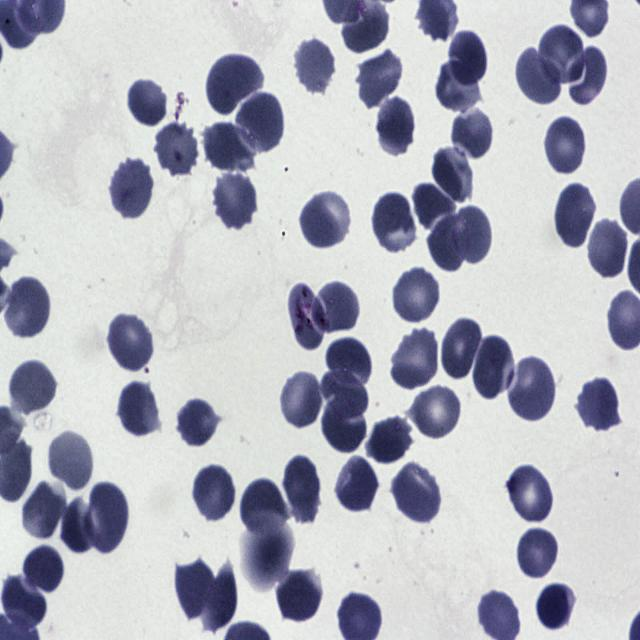red blood cell: (206, 51, 265, 117), (508, 353, 558, 424), (2, 277, 54, 342), (236, 90, 286, 155), (389, 328, 438, 394), (86, 481, 131, 552), (108, 156, 156, 222), (392, 264, 442, 327), (471, 332, 515, 403), (371, 191, 419, 256), (354, 48, 405, 109), (282, 454, 324, 528), (390, 463, 441, 523), (440, 314, 483, 384), (211, 170, 259, 232), (373, 94, 418, 158), (538, 26, 586, 86), (298, 195, 349, 251), (116, 378, 162, 440), (292, 36, 338, 98), (274, 568, 324, 625), (431, 144, 476, 206), (516, 48, 564, 106), (174, 556, 216, 622), (240, 477, 288, 534), (555, 183, 597, 248), (505, 466, 553, 522), (288, 283, 328, 350), (22, 479, 67, 538), (411, 386, 462, 438), (576, 377, 623, 433), (108, 315, 154, 372), (10, 360, 56, 416), (48, 431, 93, 488), (320, 370, 371, 420), (447, 28, 489, 88), (566, 43, 608, 103), (202, 560, 238, 630), (279, 371, 322, 429), (191, 466, 236, 521), (203, 122, 251, 172), (342, 1, 389, 52), (155, 122, 199, 176), (1, 575, 45, 629), (587, 219, 627, 278), (125, 76, 169, 129), (322, 397, 365, 451), (545, 118, 586, 174), (452, 206, 492, 263), (336, 456, 378, 510), (60, 497, 98, 555), (428, 216, 467, 272), (433, 65, 479, 112), (452, 106, 492, 160), (516, 527, 558, 578), (535, 582, 577, 633), (326, 337, 371, 384), (411, 183, 457, 228), (23, 544, 64, 594), (314, 285, 359, 330), (368, 416, 412, 461), (176, 401, 218, 447)
